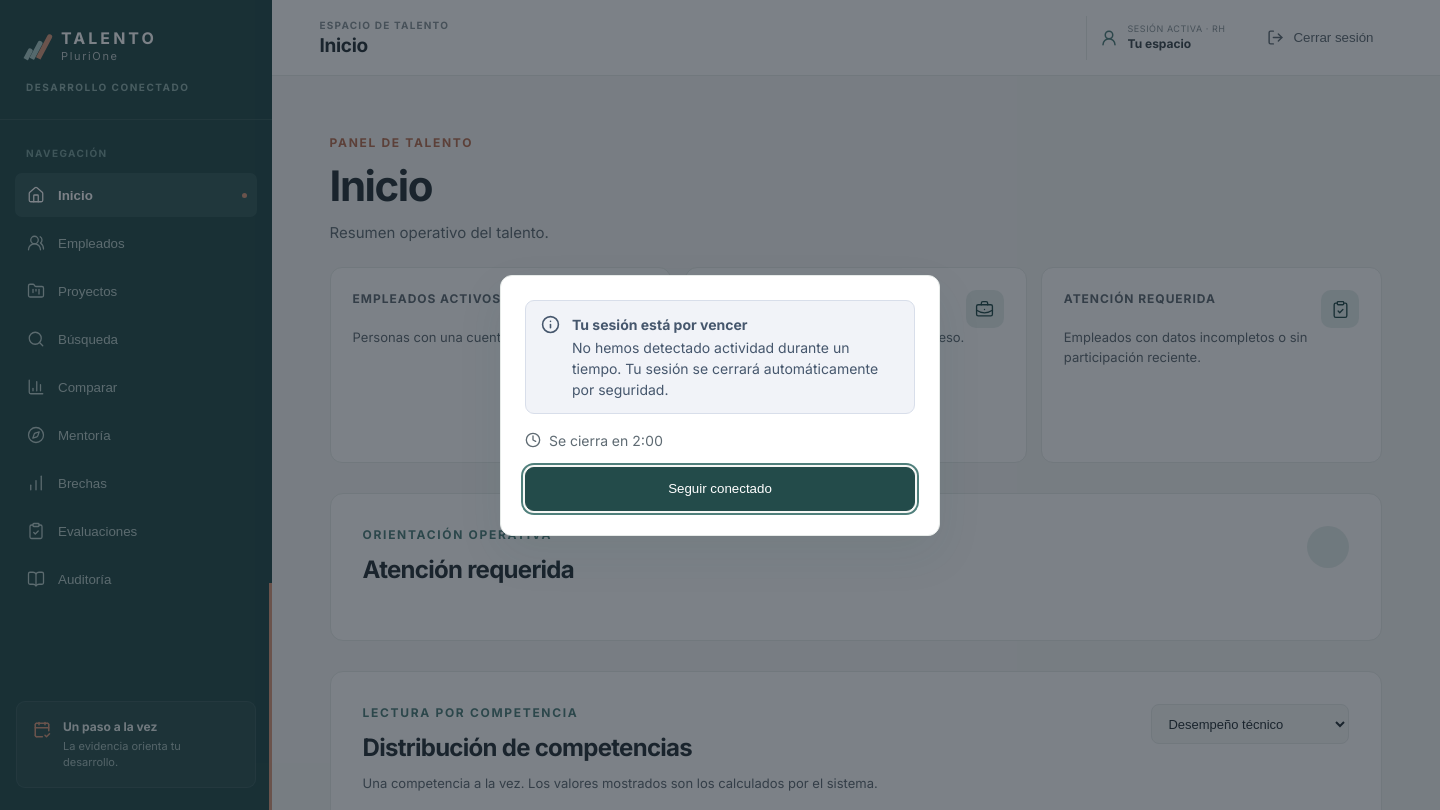
it: sesión por inactividad (Bloque F) › RH obtiene el mismo aviso y el mismo botón que Empleado
The width and height of the screenshot is (1440, 810).
Check: the text "Tu sesión está por vencer" is shown, box [572,316,748,332]
Check: the text "Se cierra en 2:00" is shown, box [549,430,663,450]
Click the button "Seguir conectado": [720, 488] box [525,466,915,510]
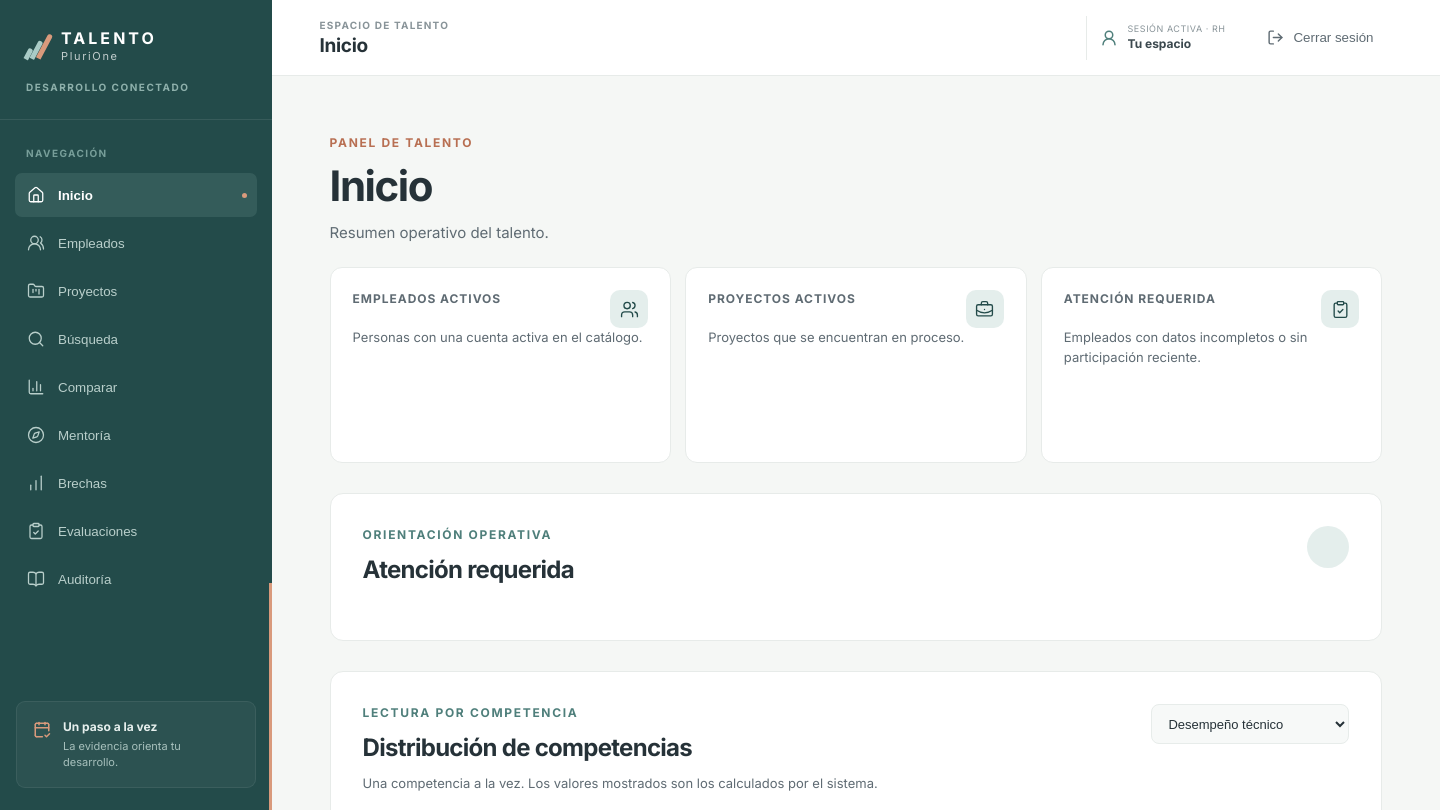
Check: the text "Tu sesión está por vencer" is gone
